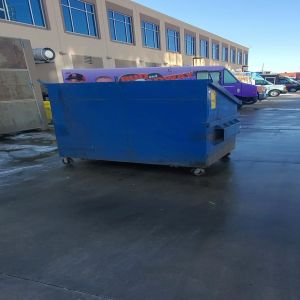Dumpster: (46, 81, 240, 179)
